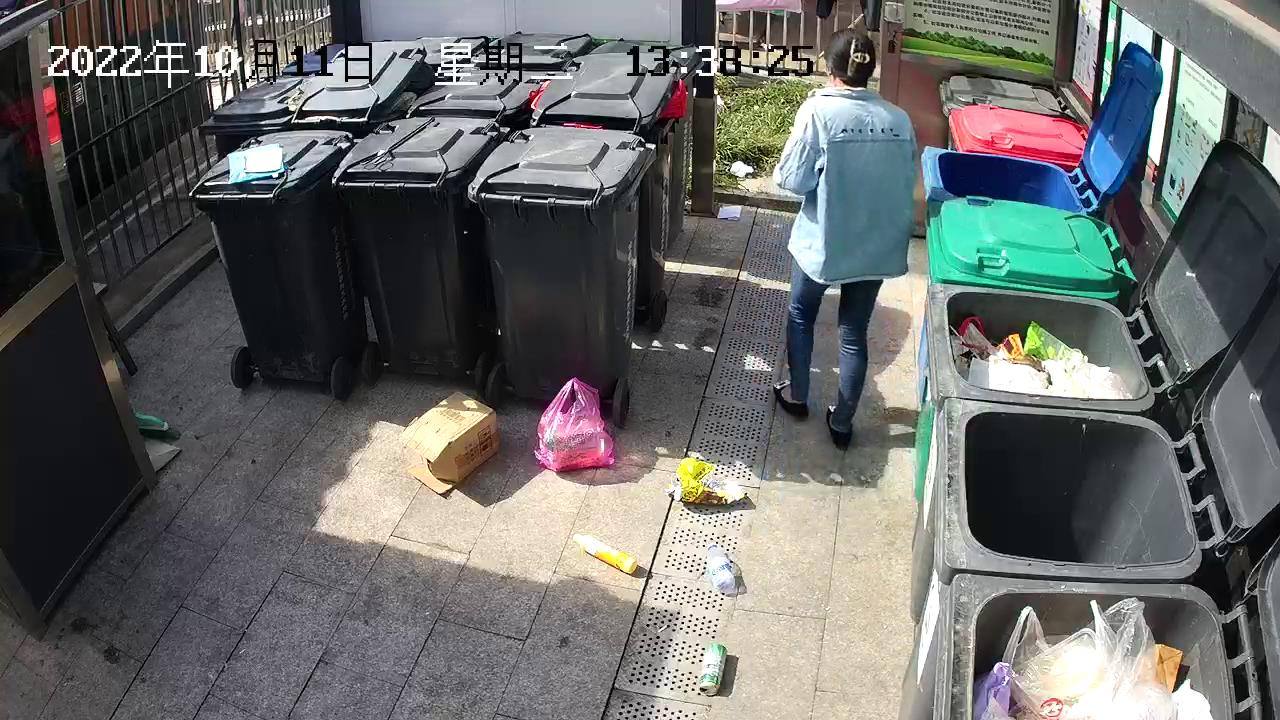garbage: (664, 453, 752, 509)
garbage-bag: (527, 373, 622, 479)
lvzhipin: (695, 640, 731, 697)
suliaozhipin: (569, 527, 642, 579), (703, 536, 738, 597)
worker: (769, 22, 925, 457)
zhizhipin: (397, 384, 504, 501)
